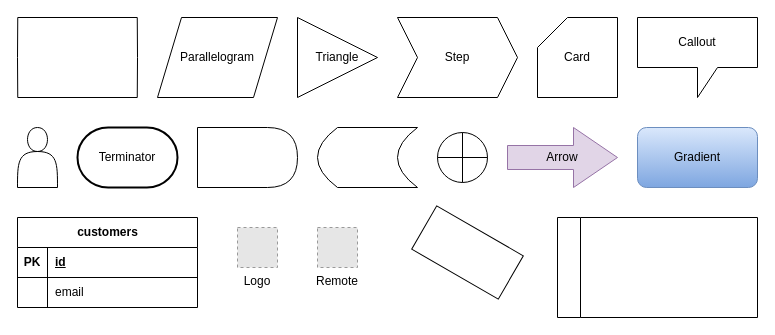
This 775x335 diagram has some shape labels left out. Grey dashed boxes stand in for pictures. Each missing label, with the centre of its shape:
Actor: the point at 37,157
Data store: the point at 367,157
Delay: the point at 247,157
Hexagon: the point at 77,57
Rotated: the point at 467,252
Vertical: the point at 657,267
